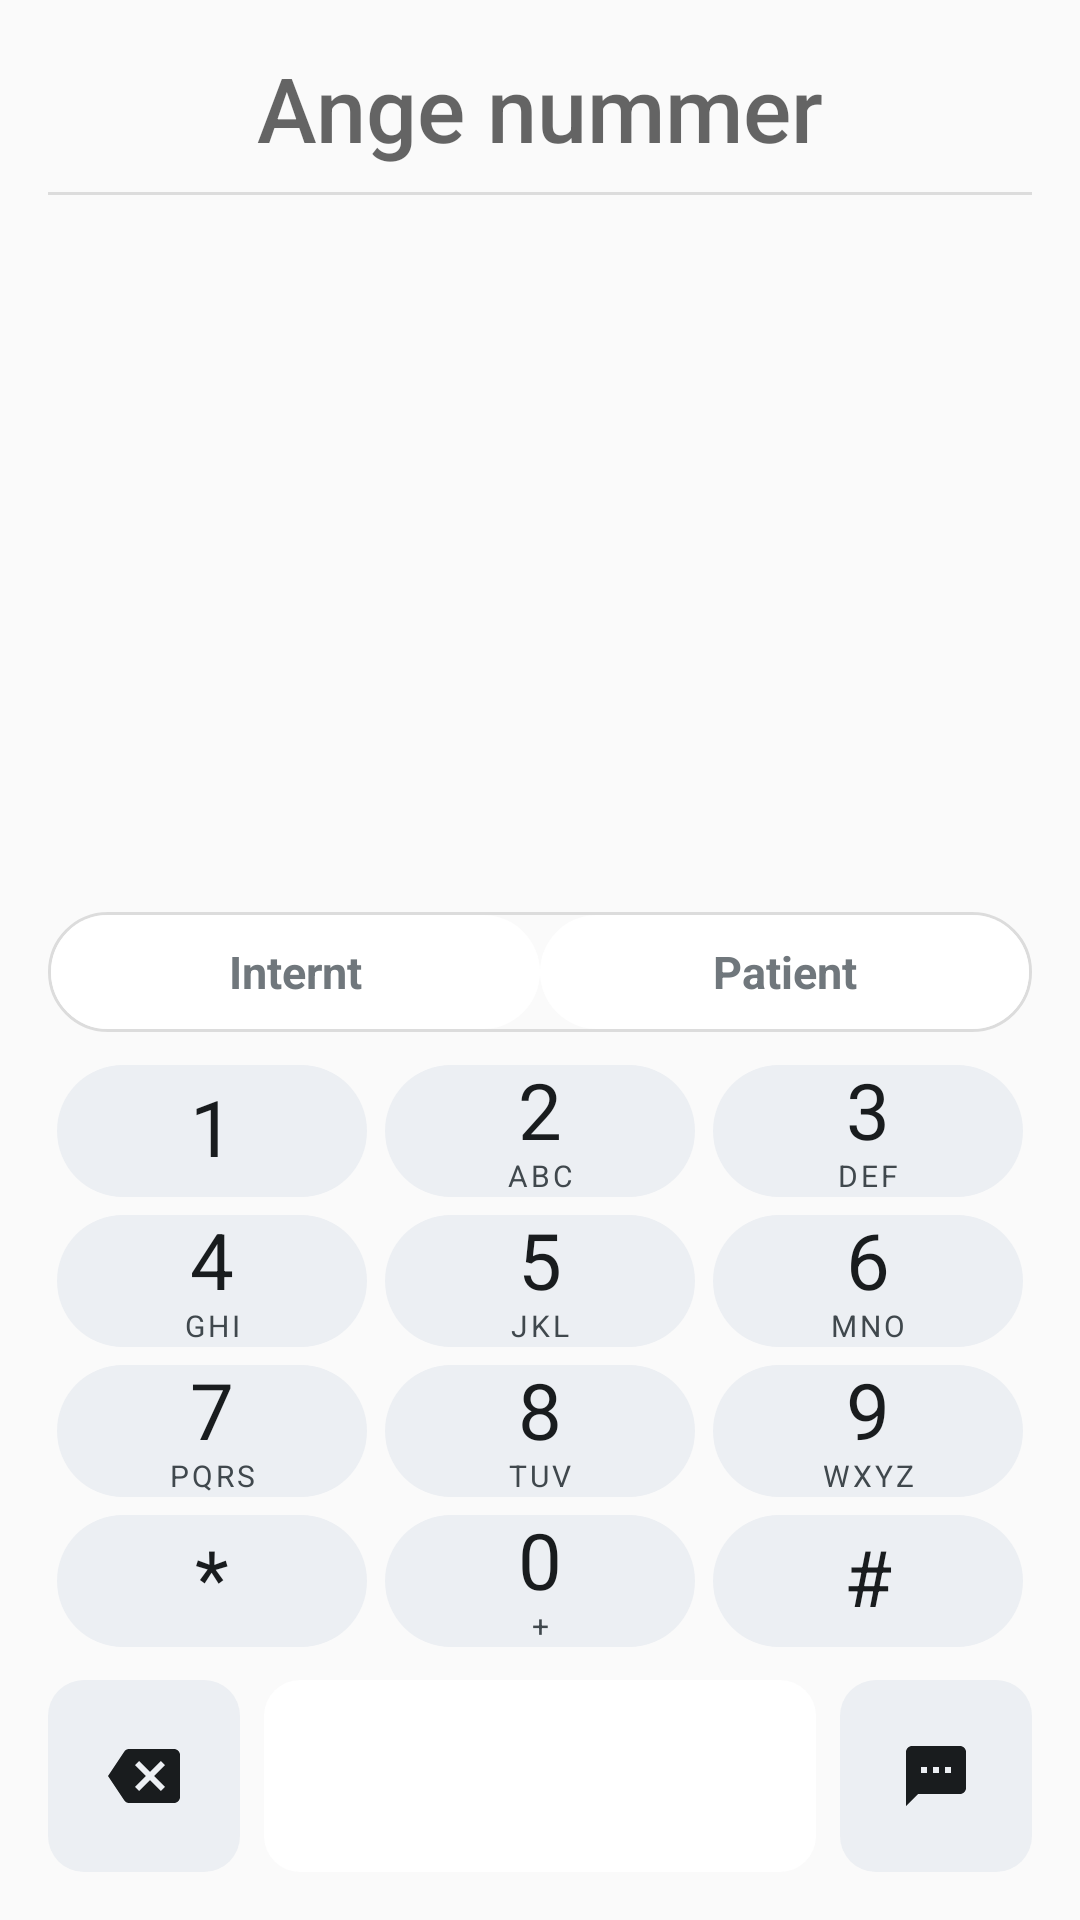

Screen size 1080×1920. Icon name, then its center in pixels as (x,y):
Radera (håll in för att rensa): (144,1776)
Skicka SMS: (936,1776)
